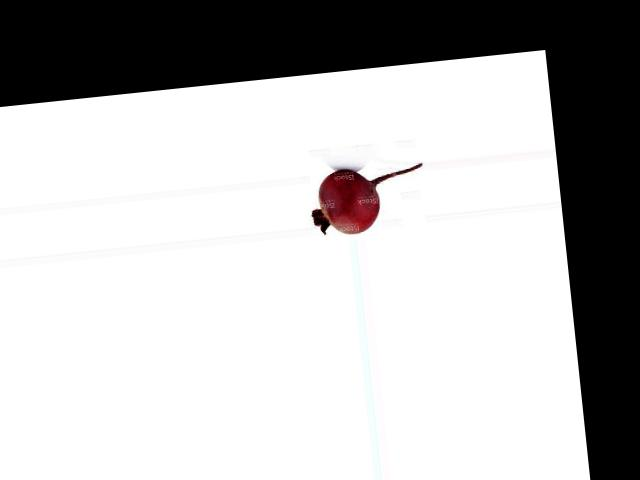beet: (307, 161, 427, 237)
